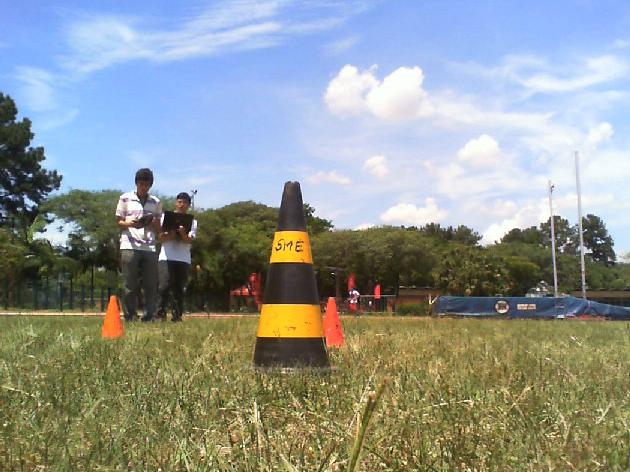0 cone: (244, 181, 340, 375), (323, 297, 344, 346), (101, 295, 125, 337)
